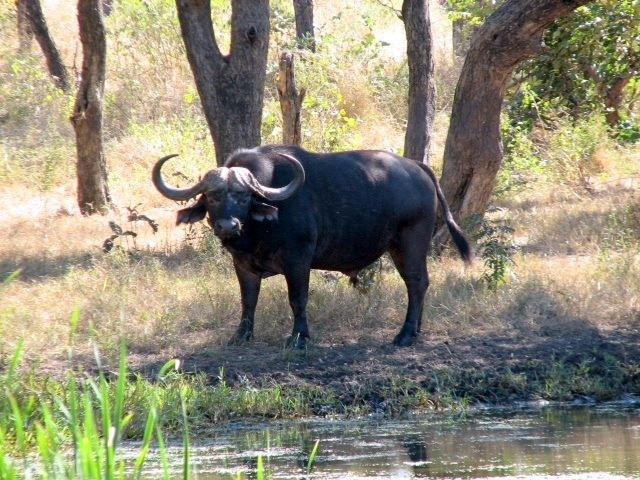buffalo: (148, 141, 472, 353)
